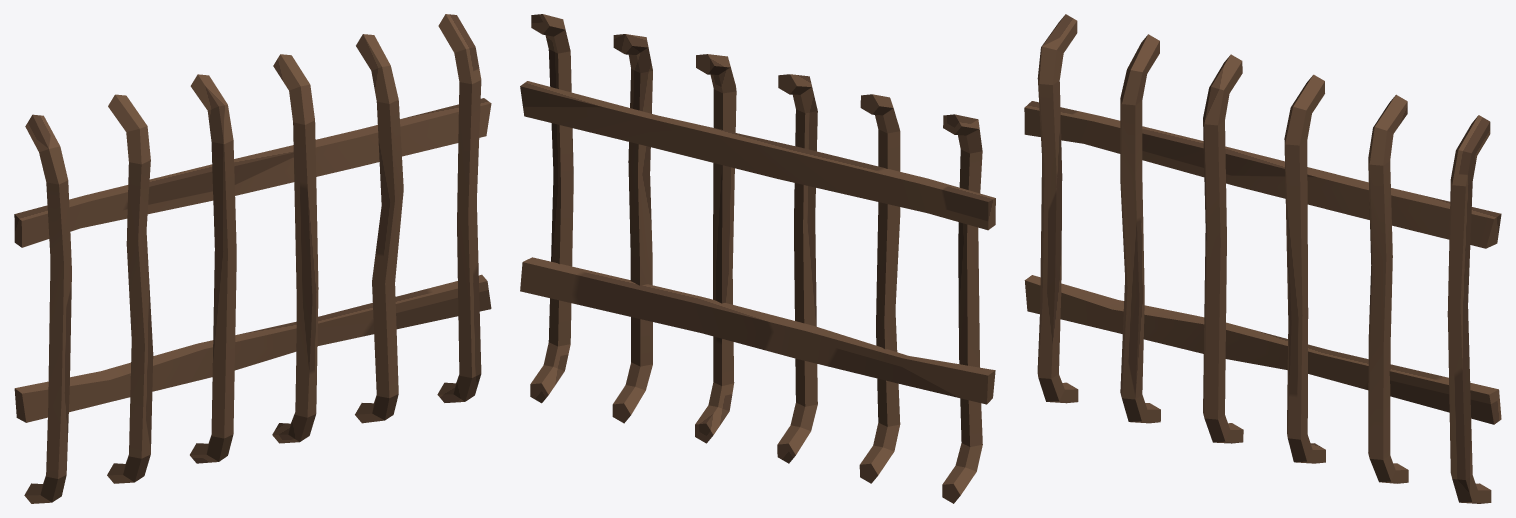
The model's file is SM_Bld_Window_Bars_01.glb.
3 renders of one model, left to right at view 1: azimuth 30°, elevation 25°; view 2: azimuth 150°, elevation 25°; view 3: azimuth 330°, elevation 25°, orthographic.
Parts seen in each view (by area): view 1: SM_Bld_Window_Bars_01; view 2: SM_Bld_Window_Bars_01; view 3: SM_Bld_Window_Bars_01.
Part boxes in pixels (box(x1,y1,x2,y2)): SM_Bld_Window_Bars_01: box(14, 14, 491, 503); SM_Bld_Window_Bars_01: box(520, 14, 995, 503); SM_Bld_Window_Bars_01: box(1024, 14, 1501, 503).
Size of the model in its own units: 1.91 by 1.52 by 0.2031.
Materials: 1 (1 with a texture image).
